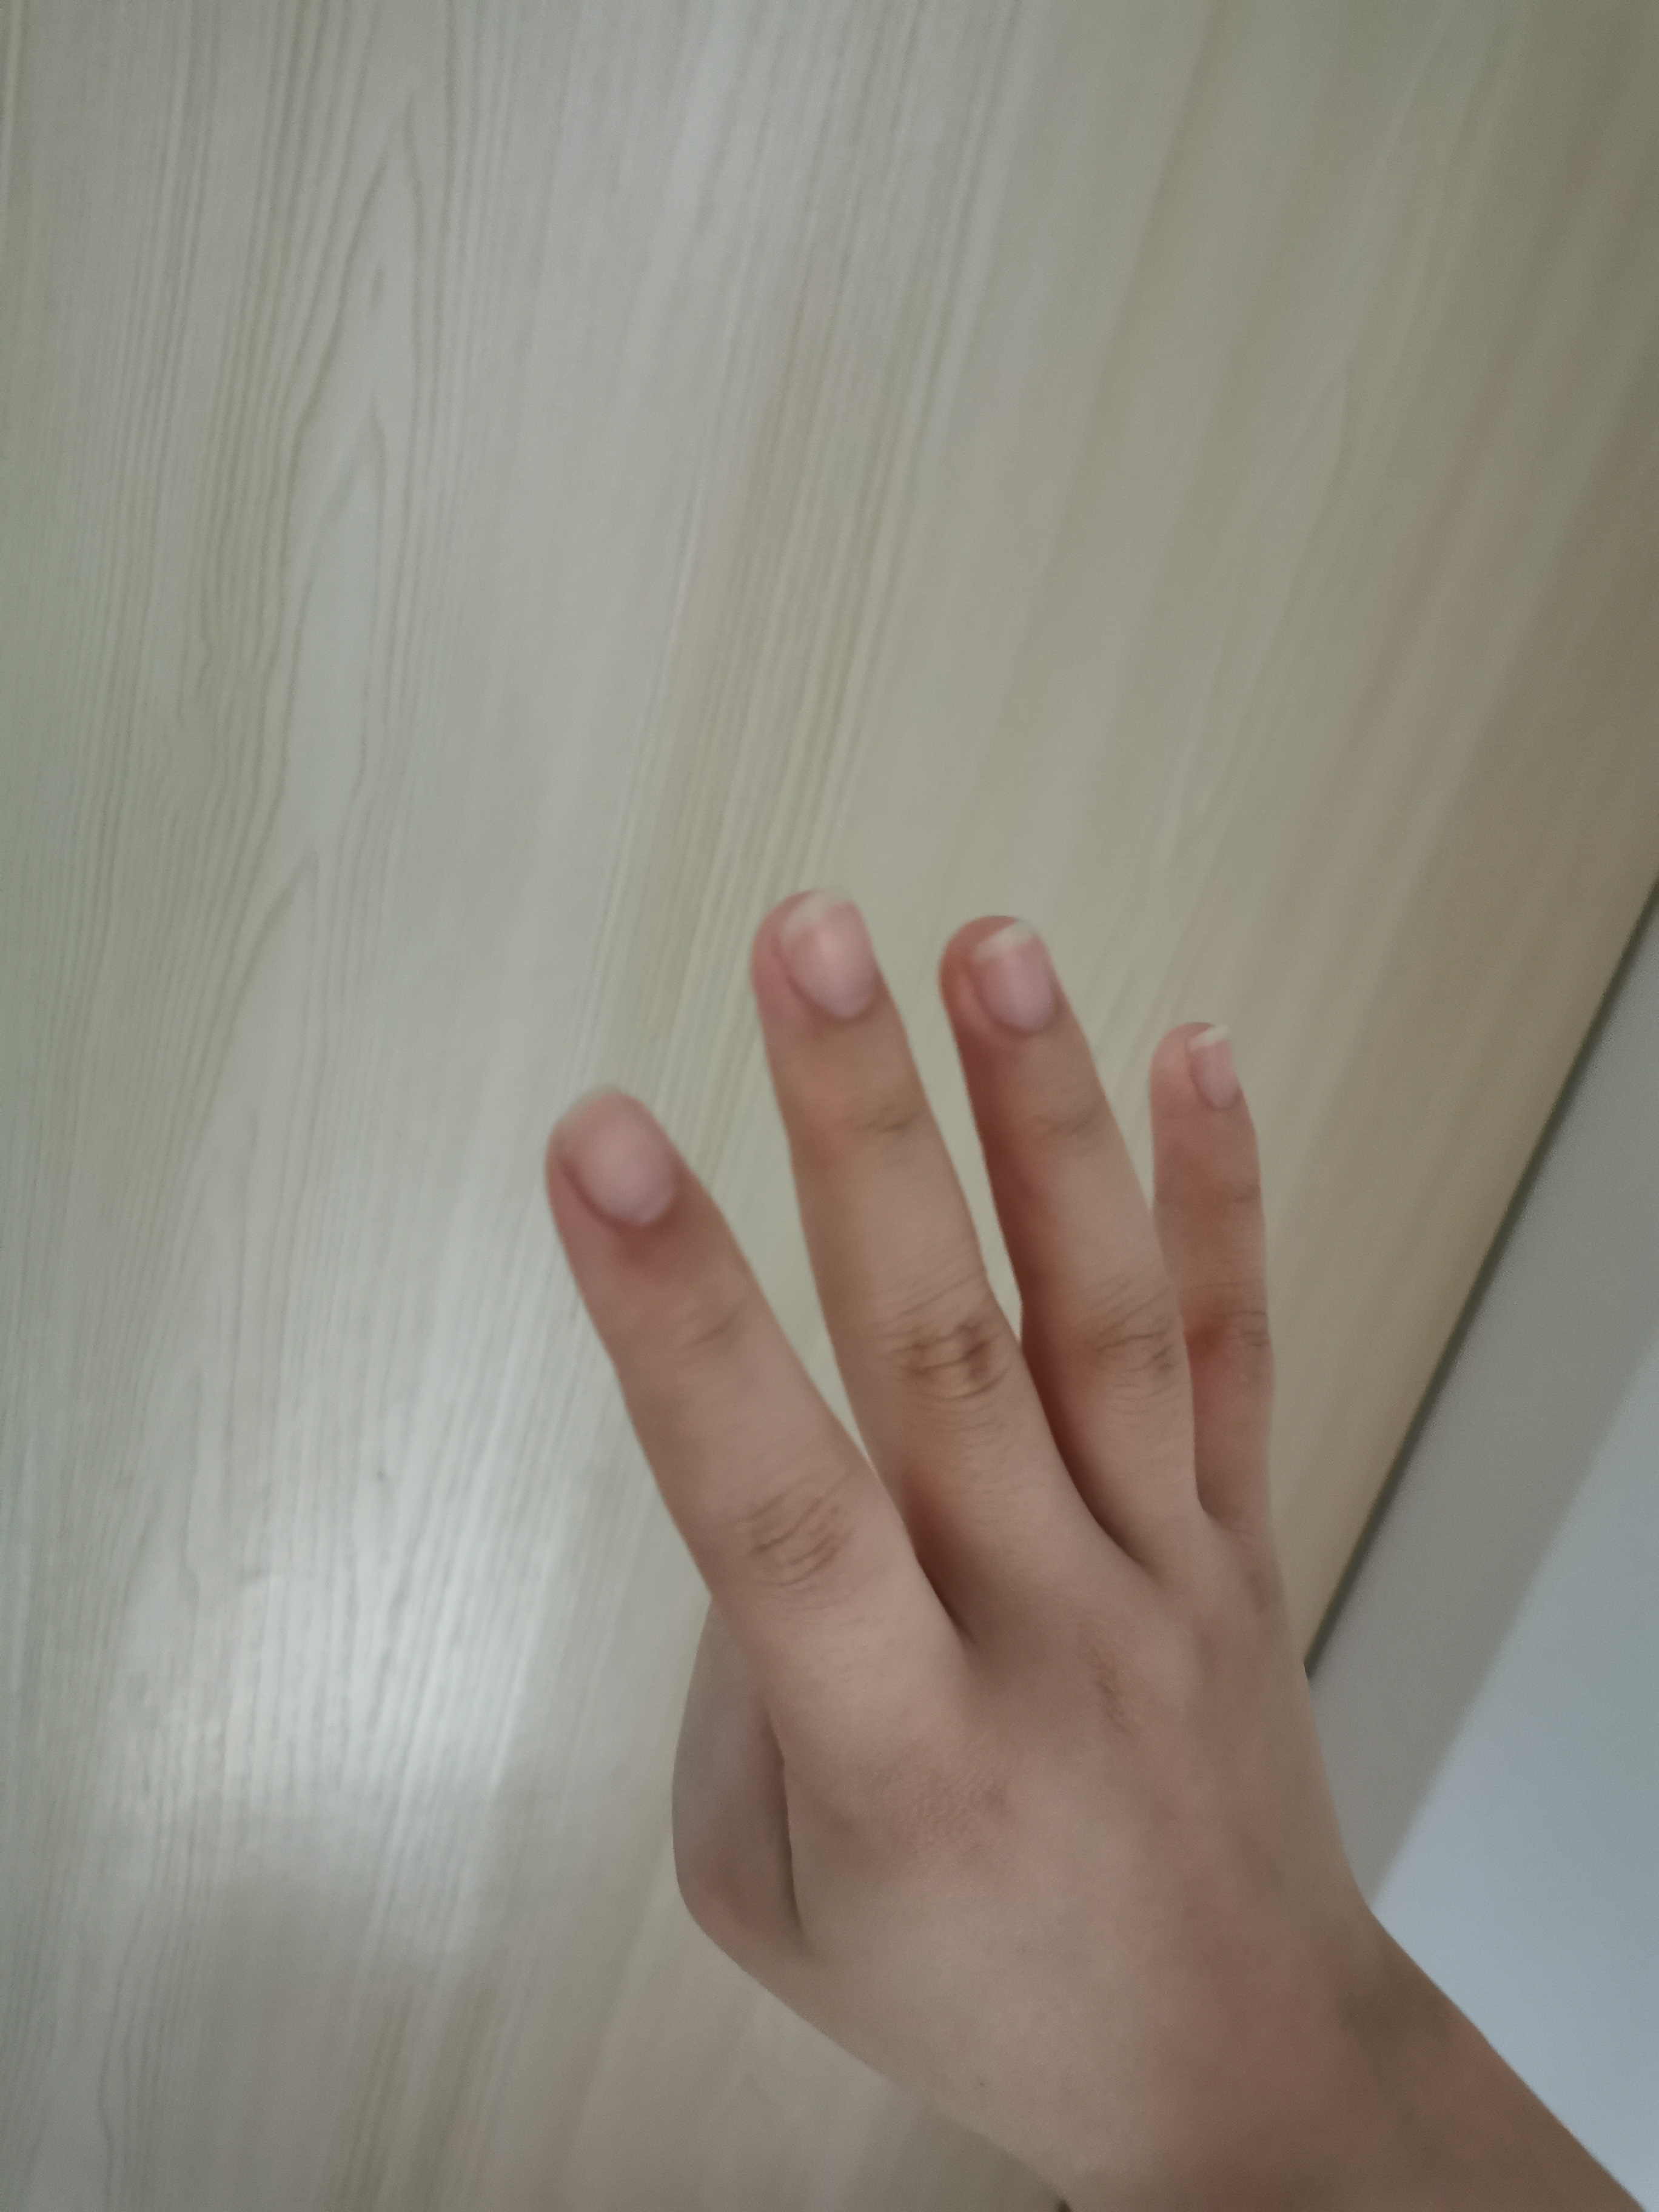right: (535, 878, 1316, 2127)
